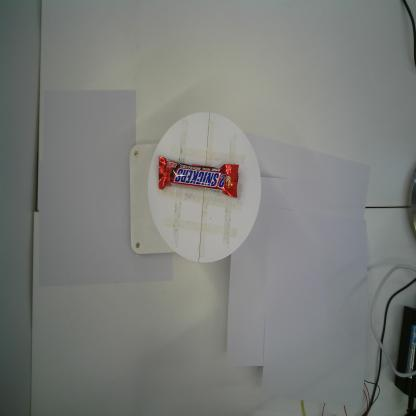Chocolate: (158, 155, 239, 198)
